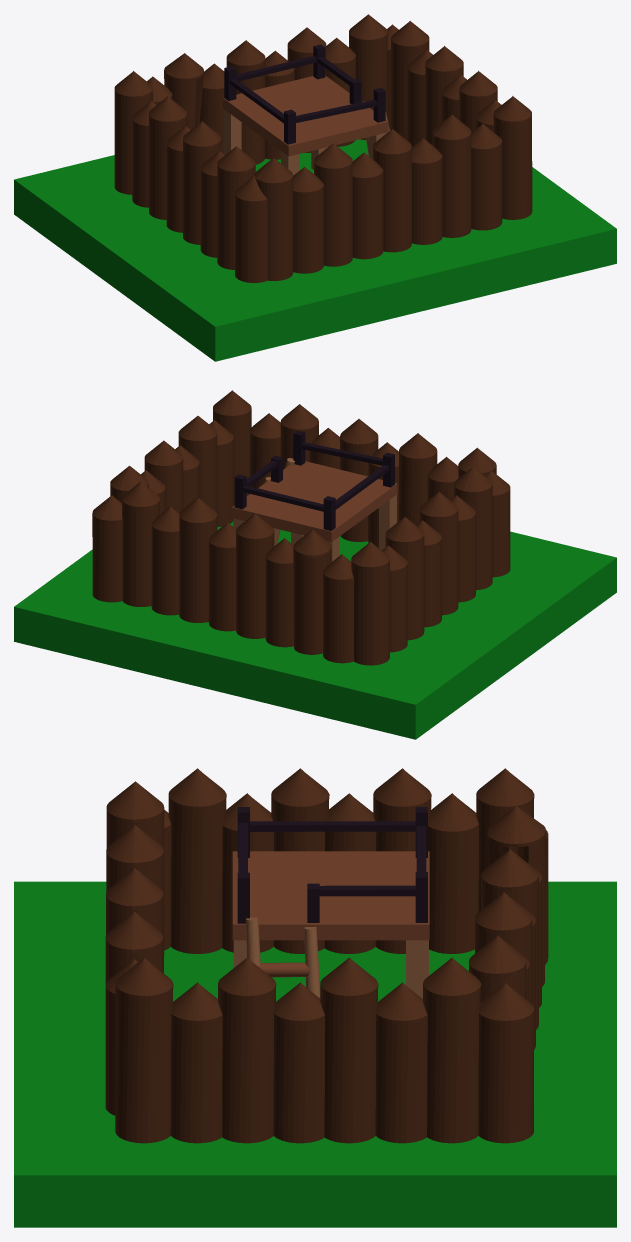
The model's file is tour_seul.glb.
3 views of the same model, one above another, from view 1: azimuth 30°, elevation 25°; view 2: azimuth 150°, elevation 25°; view 3: azimuth 270°, elevation 25° (orthographic). The views are drawn at different scales.
Visible parts, largest first — view 1: Cube, Cube.005, Cylindre.023, Cylindre.030, Cylindre.028, Cylindre.026, Cylindre.024, Cylindre.007, Cylindre.027, Cylindre.031, Cylindre.025, Cylindre.029 (+23 smaller); view 2: Cube, Cube.005, Cylindre, Cylindre.036, Cylindre.034, Cylindre.032, Cylindre.038, Cylindre.039, Cylindre.016, Cylindre.033, Cylindre.037, Cylindre.035 (+25 smaller); view 3: Cube, Cube.005, Cylindre.023, Cylindre.006, Cylindre.017, Cylindre.021, Cylindre.019, Cylindre.016, Cylindre.018, Cylindre.022, Cylindre.020, Cylindre.001 (+23 smaller).
Boxes of the visible parts, left/top/right/bottom form: Cube: left=14, top=139, right=616, bottom=361; Cube.005: left=223, top=75, right=388, bottom=156; Cylindre.023: left=493, top=96, right=532, bottom=219; Cylindre.030: left=432, top=114, right=471, bottom=237; Cylindre.028: left=373, top=129, right=411, bottom=252; Cylindre.026: left=314, top=143, right=352, bottom=266; Cylindre.024: left=254, top=158, right=293, bottom=280; Cylindre.007: left=235, top=176, right=267, bottom=282; Cylindre.027: left=352, top=152, right=383, bottom=259; Cylindre.031: left=471, top=123, right=502, bottom=230; Cylindre.025: left=293, top=167, right=323, bottom=273; Cylindre.029: left=412, top=138, right=442, bottom=244; Cube: left=14, top=521, right=616, bottom=739; Cube.005: left=232, top=461, right=397, bottom=542; Cylindre: left=351, top=541, right=389, bottom=665; Cylindre.036: left=236, top=513, right=274, bottom=638; Cylindre.034: left=179, top=497, right=217, bottom=622; Cylindre.032: left=122, top=481, right=159, bottom=606; Cylindre.038: left=293, top=529, right=331, bottom=654; Cylindre.039: left=323, top=554, right=353, bottom=663; Cylindre.016: left=92, top=495, right=122, bottom=602; Cylindre.033: left=151, top=506, right=179, bottom=615; Cylindre.037: left=265, top=538, right=293, bottom=647; Cylindre.035: left=208, top=522, right=236, bottom=631; Cube: left=14, top=881, right=616, bottom=1227; Cube.005: left=232, top=851, right=429, bottom=940; Cylindre.023: left=115, top=957, right=173, bottom=1143; Cylindre.006: left=168, top=768, right=226, bottom=953; Cylindre.017: left=423, top=957, right=481, bottom=1143; Cylindre.021: left=218, top=957, right=276, bottom=1143; Cylindre.019: left=320, top=957, right=378, bottom=1143; Cylindre.016: left=478, top=982, right=534, bottom=1143; Cylindre.018: left=375, top=982, right=427, bottom=1143; Cylindre.022: left=170, top=982, right=222, bottom=1143; Cylindre.020: left=273, top=982, right=324, bottom=1143; Cylindre.001: left=428, top=793, right=478, bottom=953.
Size of the model in its own units: 24.05 by 8.96 by 20.86.
